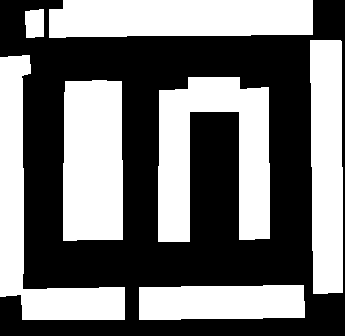parkingspot: (63, 0, 312, 36), (310, 40, 342, 293), (0, 55, 30, 296), (139, 285, 304, 319), (91, 80, 122, 239), (63, 81, 93, 240), (158, 89, 189, 241), (239, 87, 269, 239), (21, 287, 124, 319), (188, 77, 240, 111), (25, 9, 43, 37), (49, 9, 65, 37)
